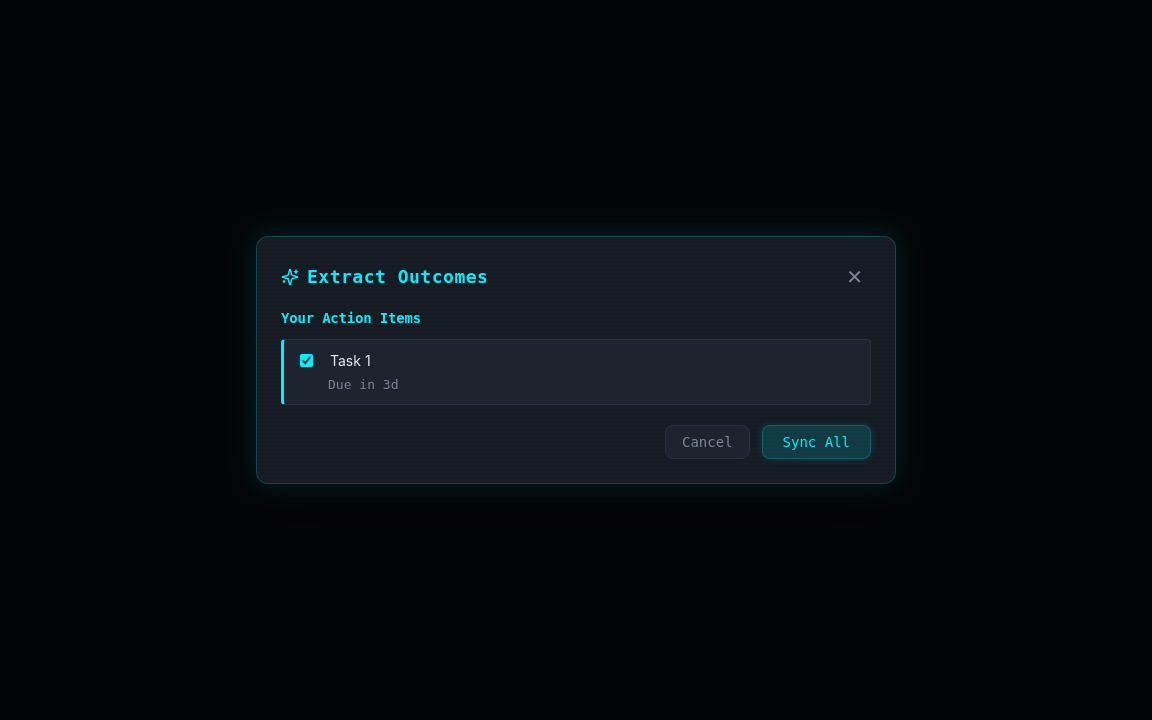
Test: OutcomeExtractionModal › should show error when apply fails
Click the button with test id "apply-outcomes-btn" at (816, 442), box [762,425,871,459]
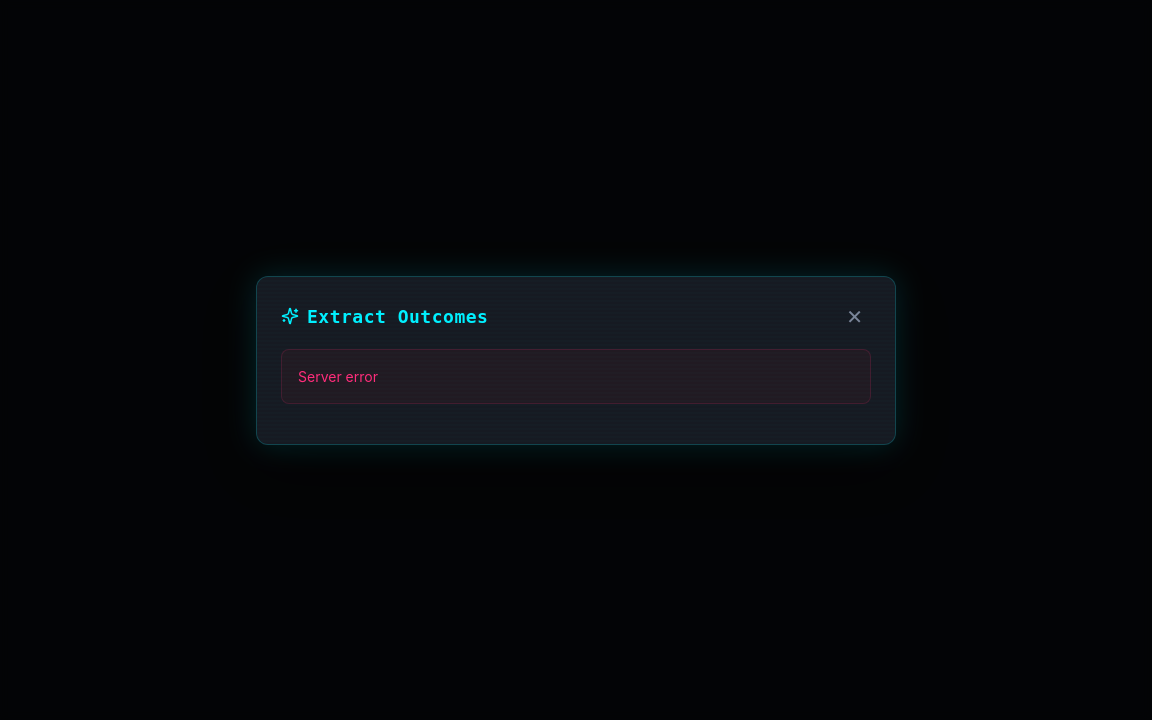
Now the text "Server error" is shown, box [281,348,871,404]
